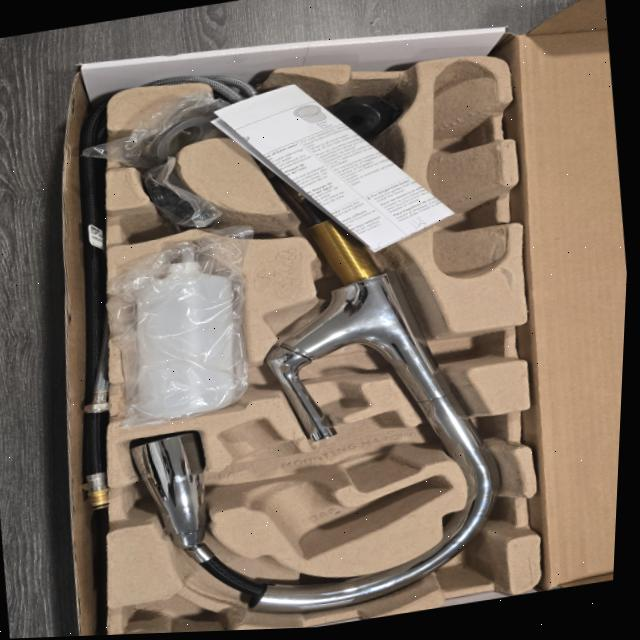1o: (125, 77, 504, 613)
2m: (213, 416, 452, 554)
3: (128, 244, 236, 418)
4m: (422, 58, 508, 276)
5o: (327, 93, 404, 141)
6o: (80, 89, 243, 170)
7: (143, 152, 221, 226)
8: (208, 82, 458, 252)
